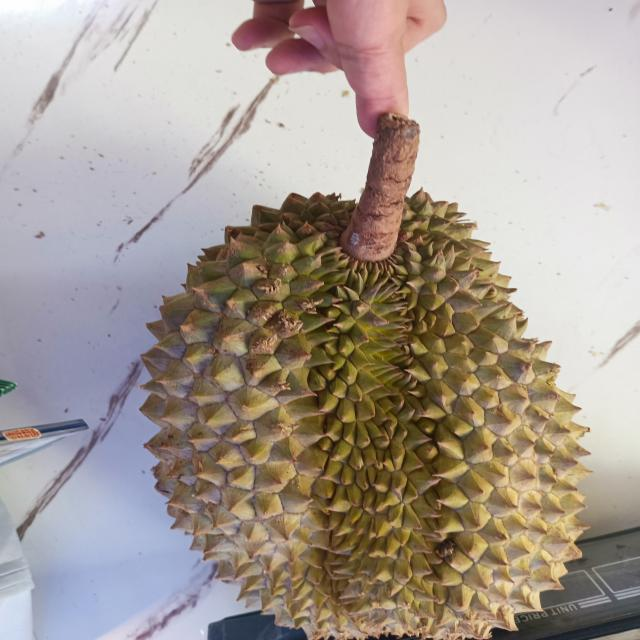mature: (141, 189, 588, 640)
